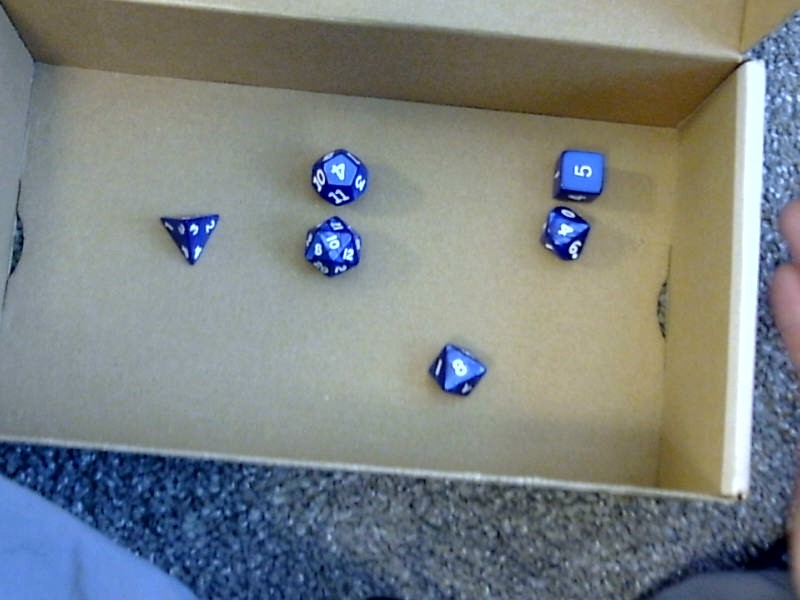d10 4: (539, 203, 590, 264)
d12 4: (309, 142, 369, 207)
d20 10: (302, 214, 363, 277)
d4 3: (151, 207, 220, 267)
d6 5: (550, 146, 607, 203)
d8 8: (425, 341, 489, 400)
